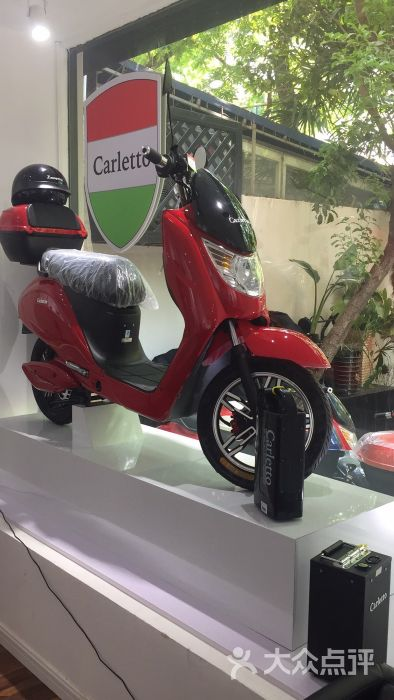电动车: (5, 149, 365, 525)
